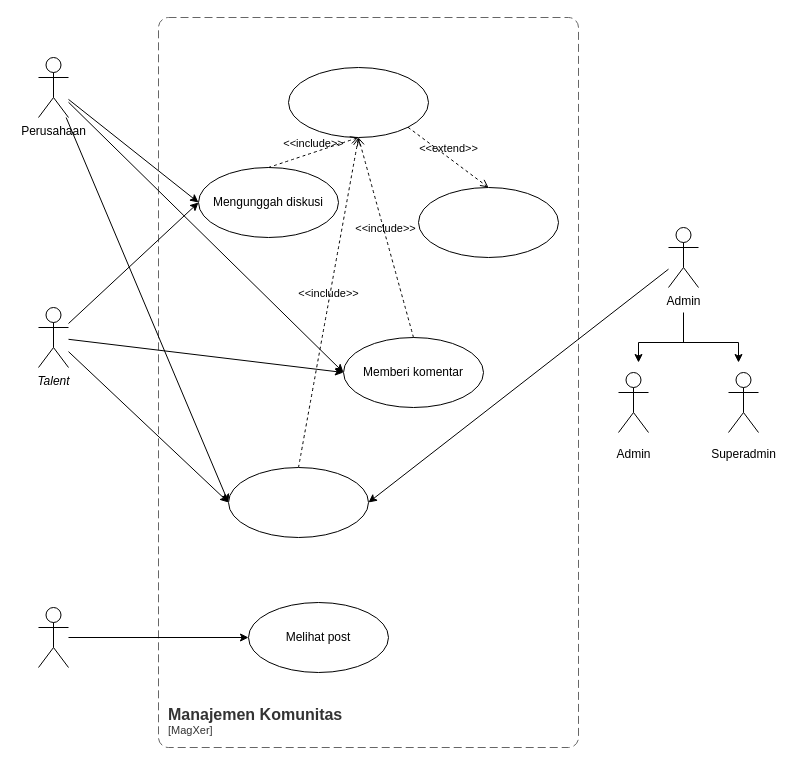
Image size: 793x765. Some labels were removed from this diagram. The box of each missing label's shape, as (x1, y1, x2, y2) in pixels:
Log out: (418, 186, 558, 258)
Login: (288, 66, 428, 138)
Melaporkan postingan dan komentar: (228, 466, 368, 538)
Tamu ( Guest ): (38, 606, 68, 668)
